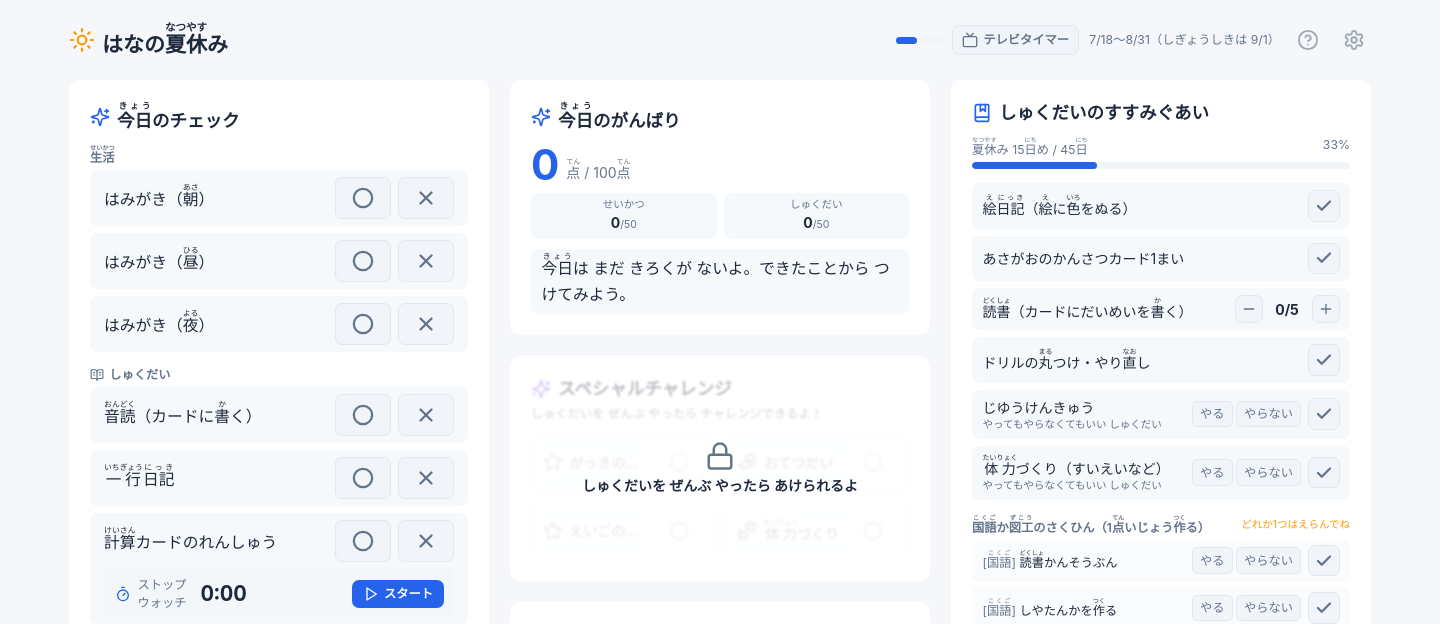
Scenario: 子どもページ・切替の後始末 › 同じ子のままなら書き込み失敗はちゃんと出す（黙らせすぎていない）
What coordinates should you click on to do the following:
click the 1st button named "やった"
I would click on:
 (363, 198)
Its box is [335,177,391,219].
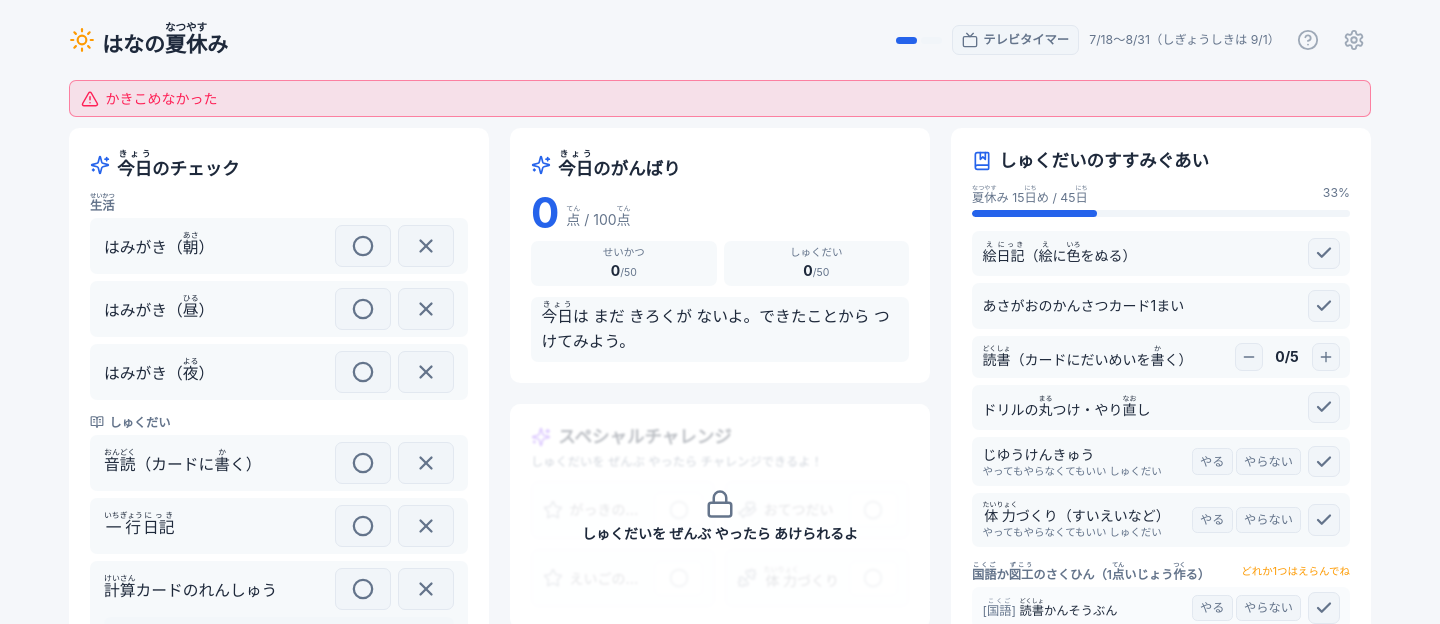
expect the text "かきこめなかった" is shown: met, box [69,80,1371,117]
